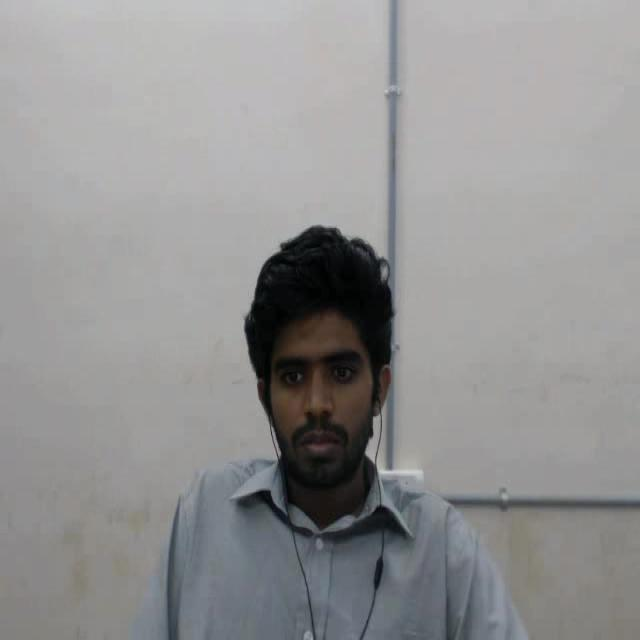Engaged: (214, 201, 431, 522)
